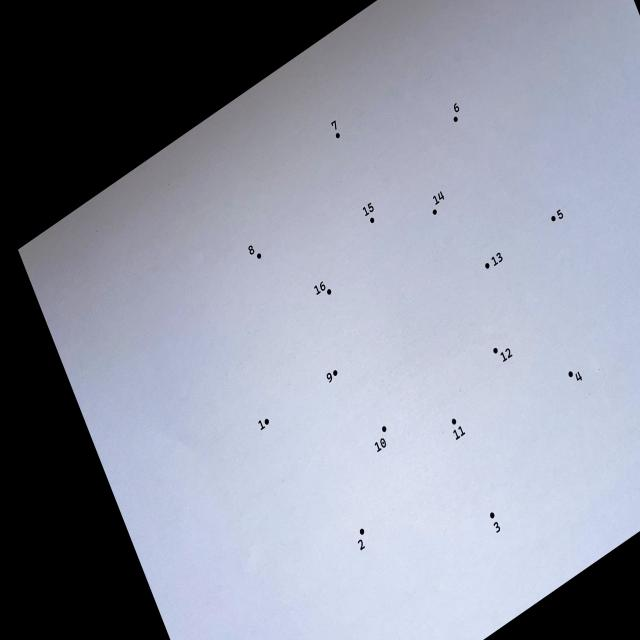Dot: (326, 289, 332, 295), (493, 347, 498, 354), (360, 528, 364, 536), (333, 370, 338, 376), (568, 371, 573, 377), (551, 216, 556, 222), (453, 116, 458, 122), (490, 512, 494, 519), (452, 418, 456, 425), (265, 418, 269, 424), (382, 426, 386, 432), (485, 263, 489, 269), (433, 209, 437, 215), (336, 132, 340, 138), (370, 217, 374, 223), (257, 253, 261, 259)
DotNumber: (374, 425, 387, 453), (452, 418, 466, 441), (493, 347, 513, 363), (485, 252, 503, 269), (432, 191, 444, 215), (314, 281, 332, 296), (362, 202, 374, 224), (490, 512, 500, 533), (248, 245, 262, 259), (358, 528, 366, 551), (551, 209, 564, 222), (331, 120, 340, 138), (568, 371, 583, 381), (258, 418, 269, 431), (327, 370, 338, 383), (454, 103, 459, 122)
Number: (500, 348, 513, 362), (453, 426, 465, 440), (491, 252, 503, 266), (314, 281, 326, 295), (375, 438, 386, 452), (433, 191, 444, 205), (363, 202, 374, 216), (493, 521, 501, 533), (358, 540, 366, 550), (575, 371, 583, 381), (556, 210, 564, 220), (258, 420, 265, 430), (248, 245, 255, 255), (331, 120, 337, 130), (327, 373, 332, 383), (454, 102, 459, 112)
